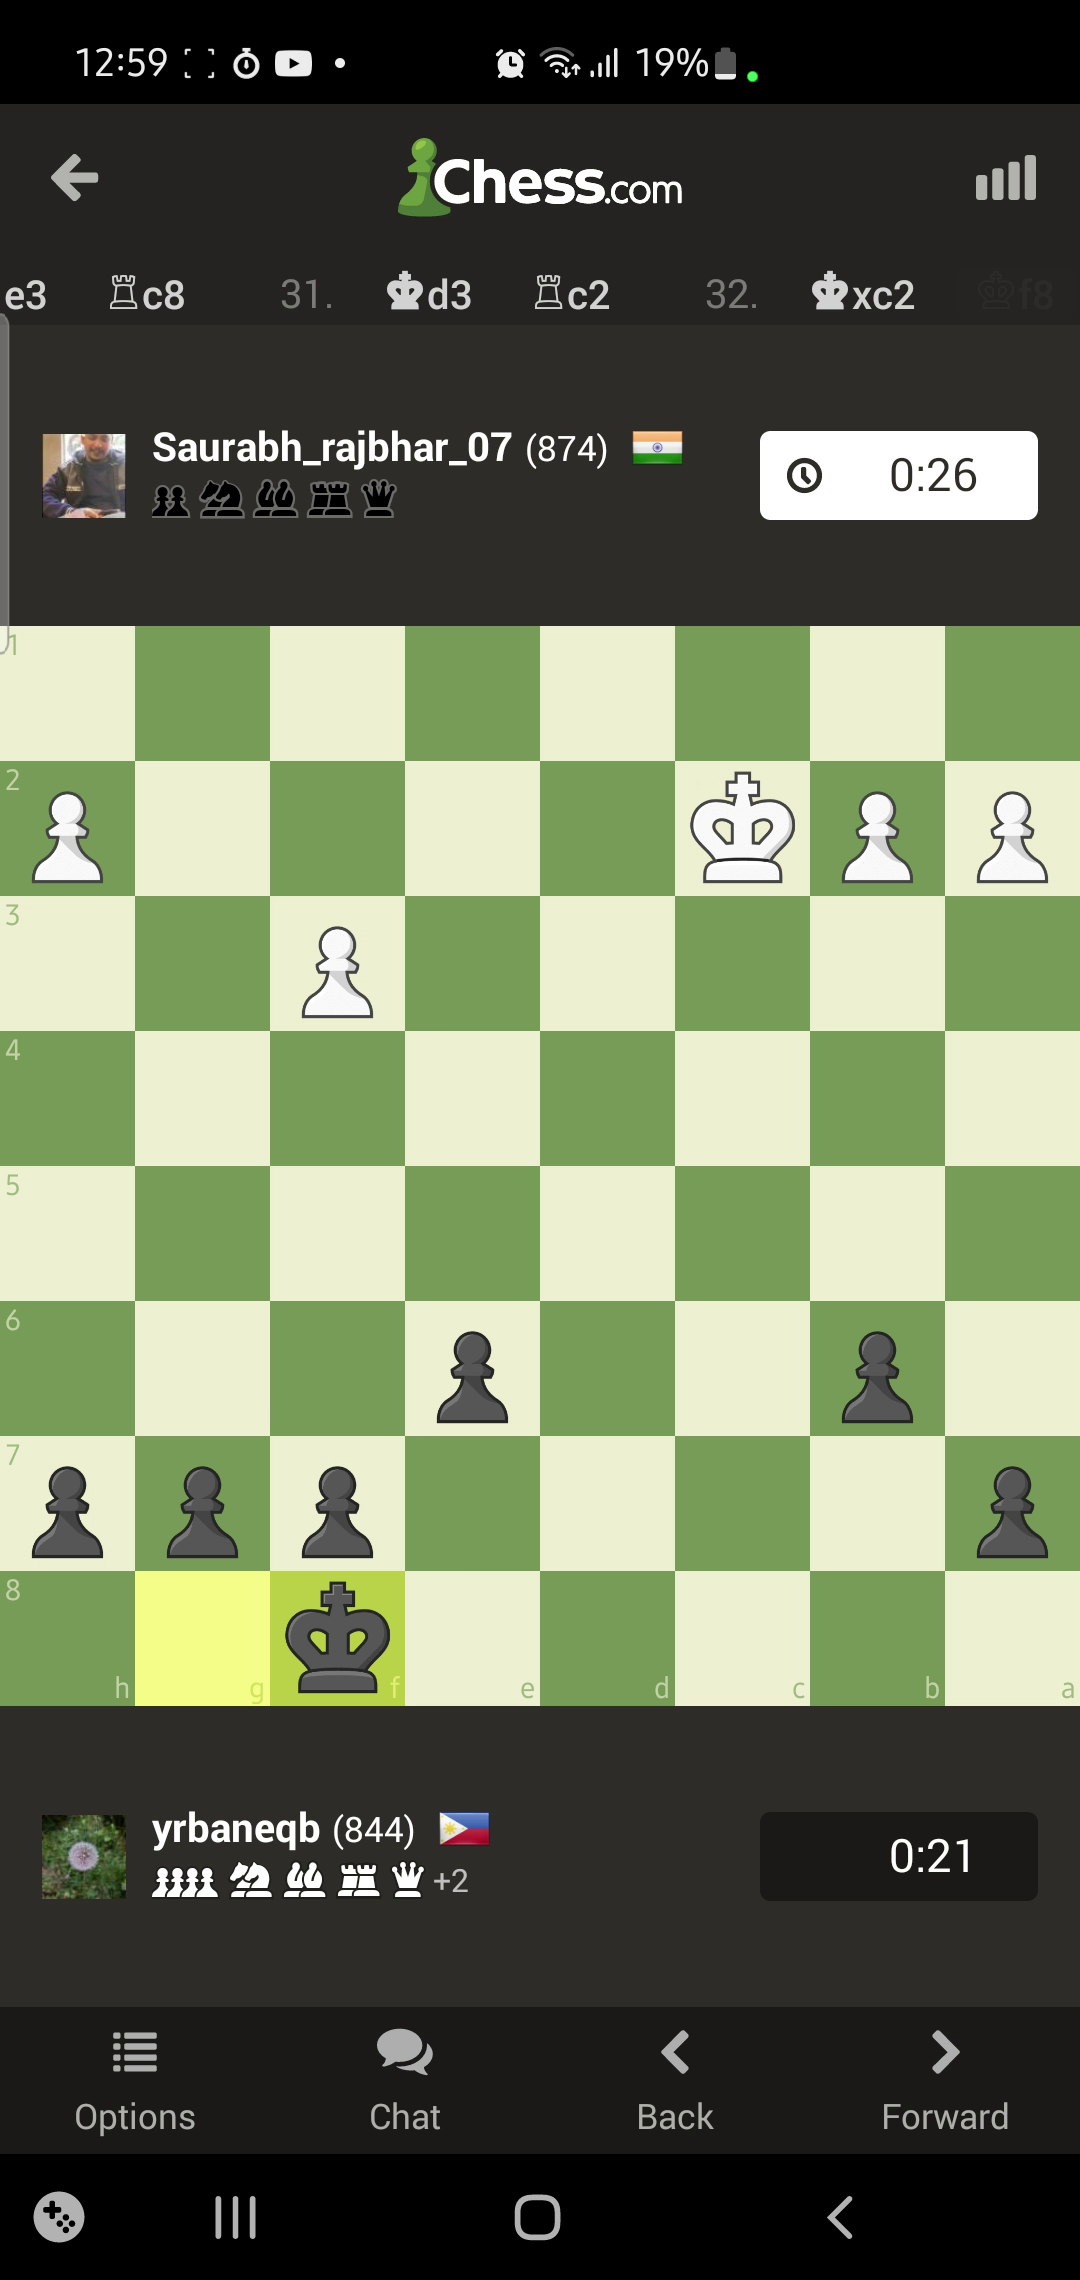king: (690, 766, 797, 887), (286, 1581, 394, 1694)
